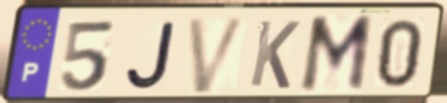0: (374, 17, 427, 90)
5: (58, 18, 119, 94)
J: (123, 19, 178, 92)
K: (246, 18, 303, 91)
M: (296, 12, 376, 96)
V: (185, 14, 251, 96)
